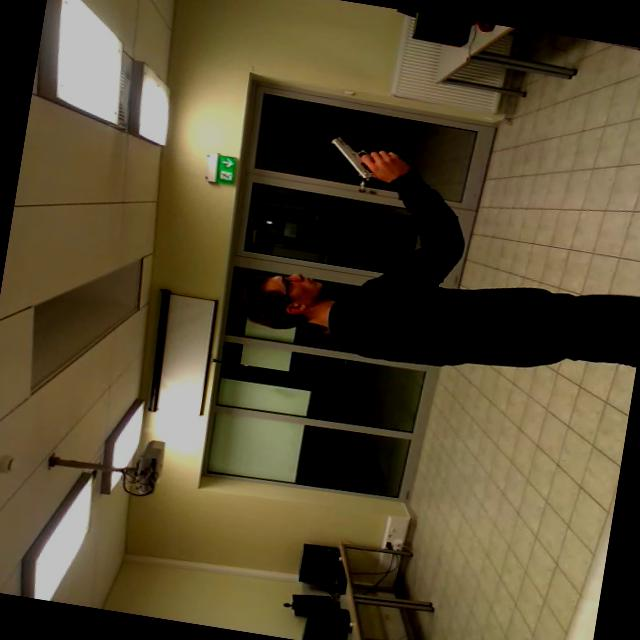handgun: (315, 124, 434, 200)
